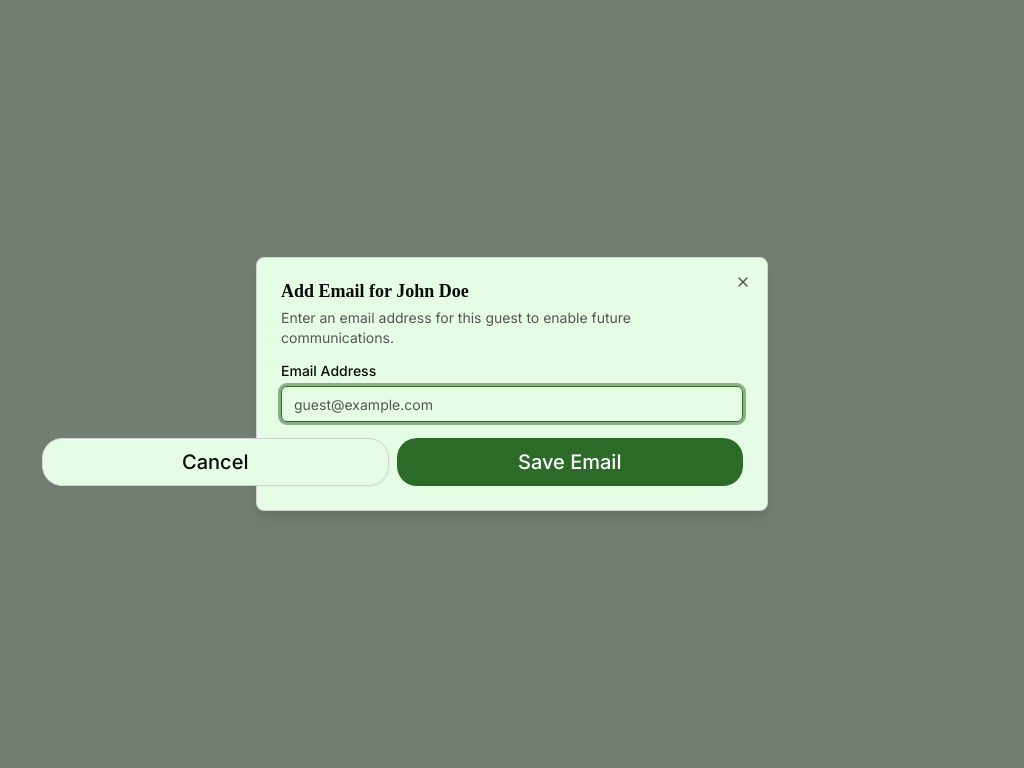
Test: AddEmailModal › validation › shows error for invalid email format
The image size is (1024, 768).
Type "invalid-email" into the field with test id "email-input" at [512, 404], box [281,386,743,422]
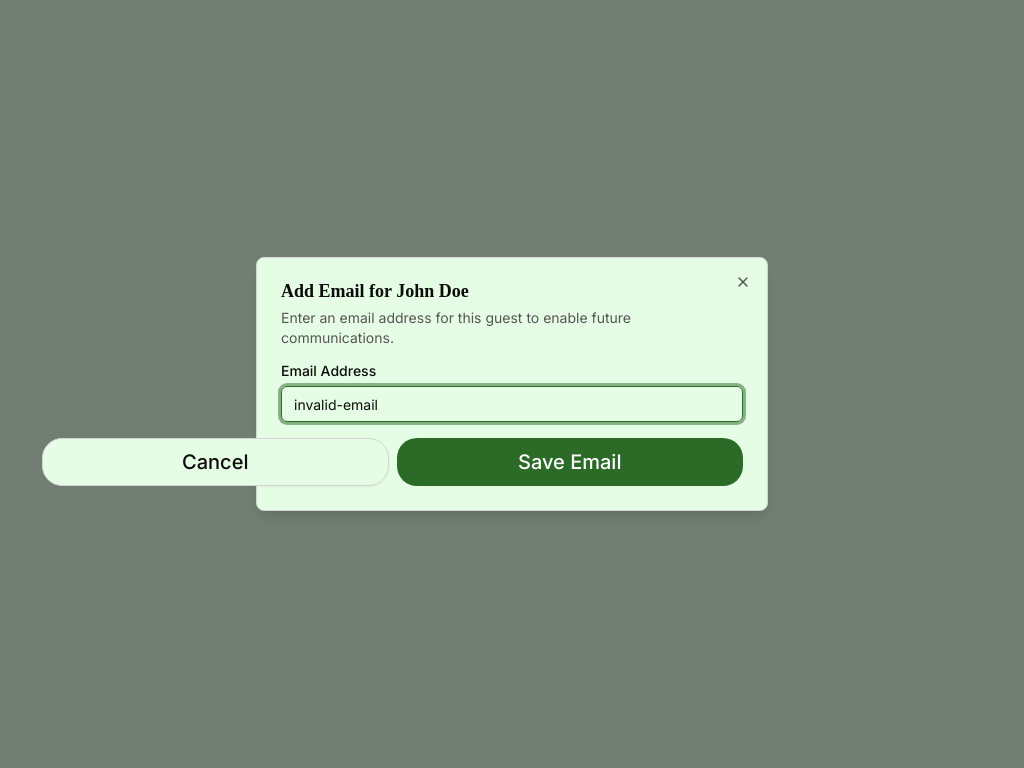
Click the button with test id "submit-email-button" at [570, 462], box [396,438,743,486]
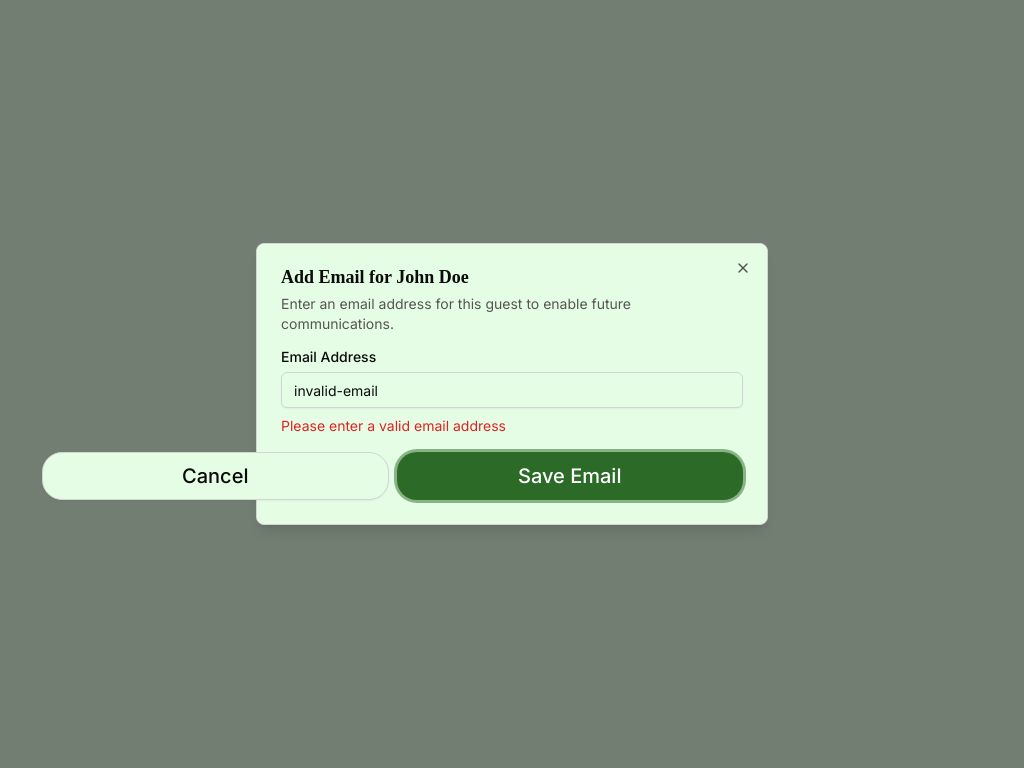
Result: the text "Please enter a valid email address" is shown at [281,417,506,434]
